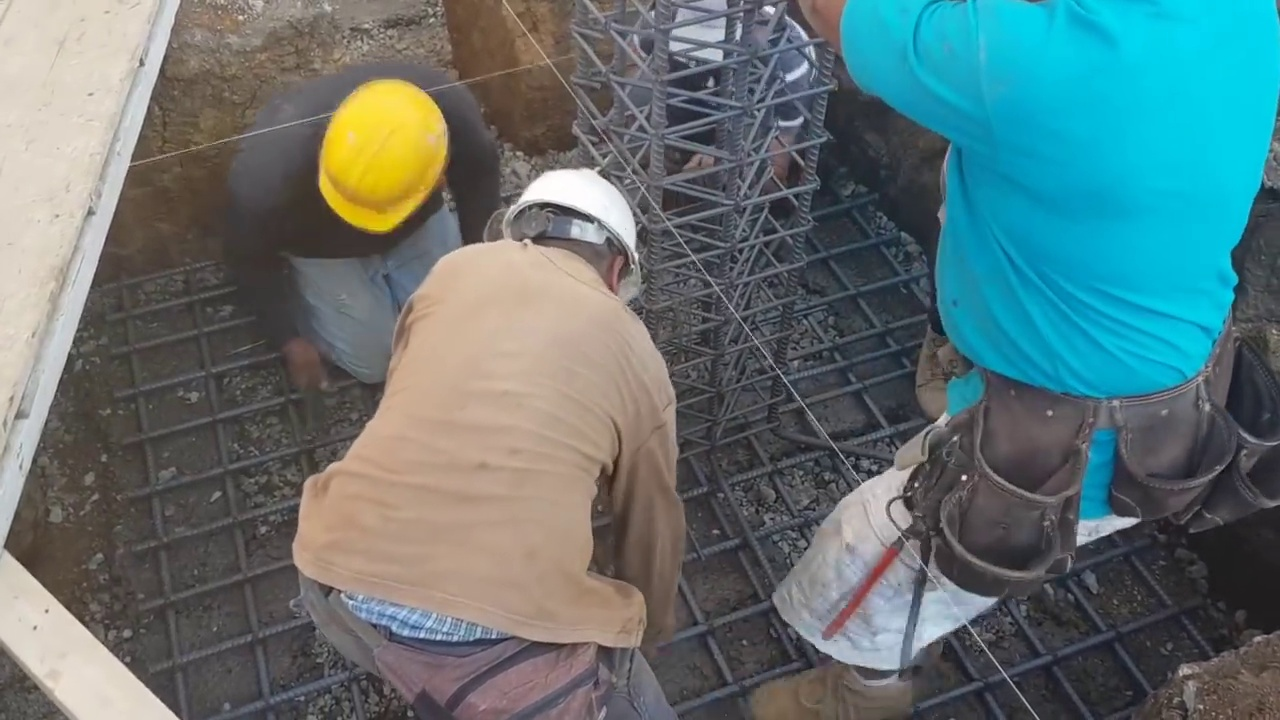helmet: (320, 83, 447, 237), (501, 167, 637, 262)
helmet-off: (650, 2, 744, 95)
helmet-on: (304, 84, 453, 237), (487, 166, 635, 303)
person: (738, 0, 1278, 717), (294, 167, 686, 716), (215, 64, 477, 400), (606, 10, 823, 243)
